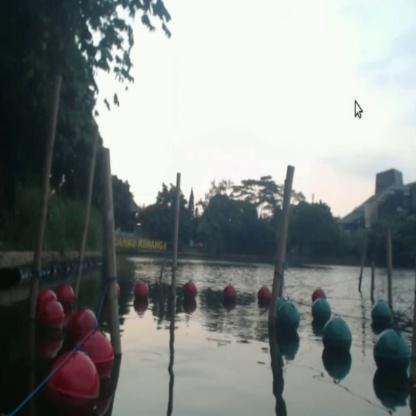green_buoy: (372, 329, 412, 378), (322, 318, 352, 358), (274, 305, 298, 335), (368, 301, 390, 332), (312, 300, 329, 326)
red_buoy: (55, 351, 95, 412), (87, 332, 114, 376), (43, 306, 63, 334), (75, 310, 95, 332), (134, 281, 148, 305), (257, 285, 271, 308), (222, 286, 235, 306), (184, 282, 196, 302), (40, 288, 58, 300), (62, 283, 72, 304), (312, 288, 326, 300)
